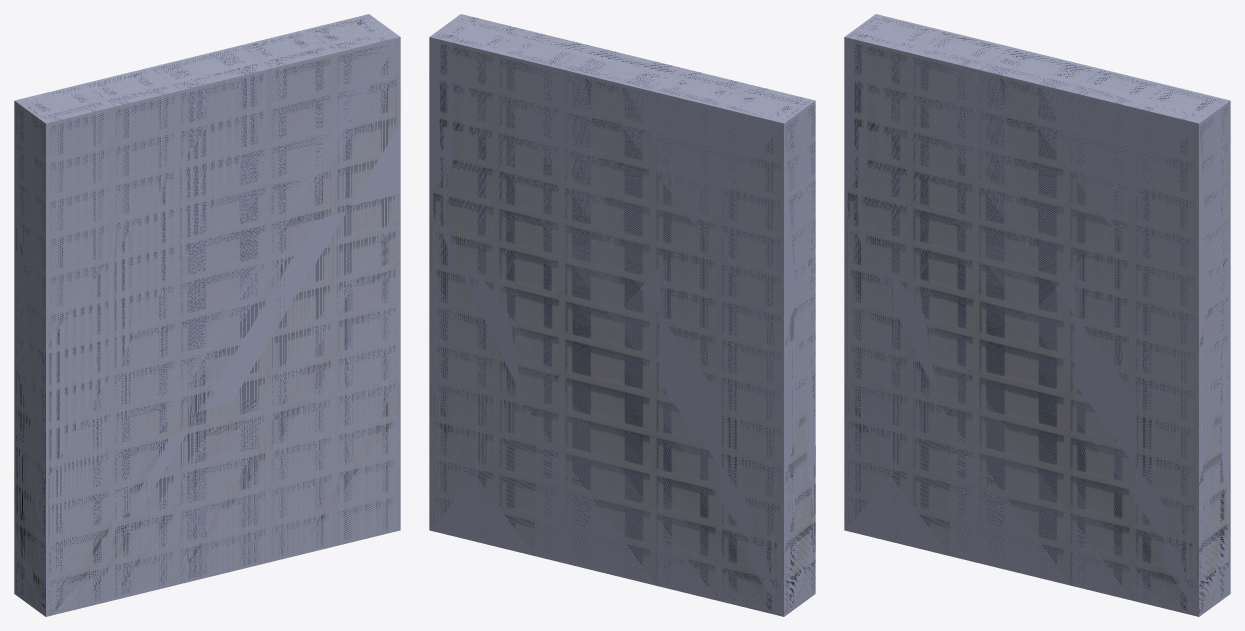
File: borderBuilding10.fbx
3 renders of one model, left to right at view 1: azimuth 30°, elevation 25°; view 2: azimuth 150°, elevation 25°; view 3: azimuth 330°, elevation 25°, orthographic.
Parts seen in each view (by area): view 1: Model; view 2: Model; view 3: Model.
Boxes of the visible parts, x1,y1,x2,y2 form: Model: [14, 14, 400, 616]; Model: [429, 14, 815, 616]; Model: [844, 14, 1230, 616].
Bounding box in the file's own units: 10.03 × 13.33 × 1.54.
3 materials, 1 textured.
